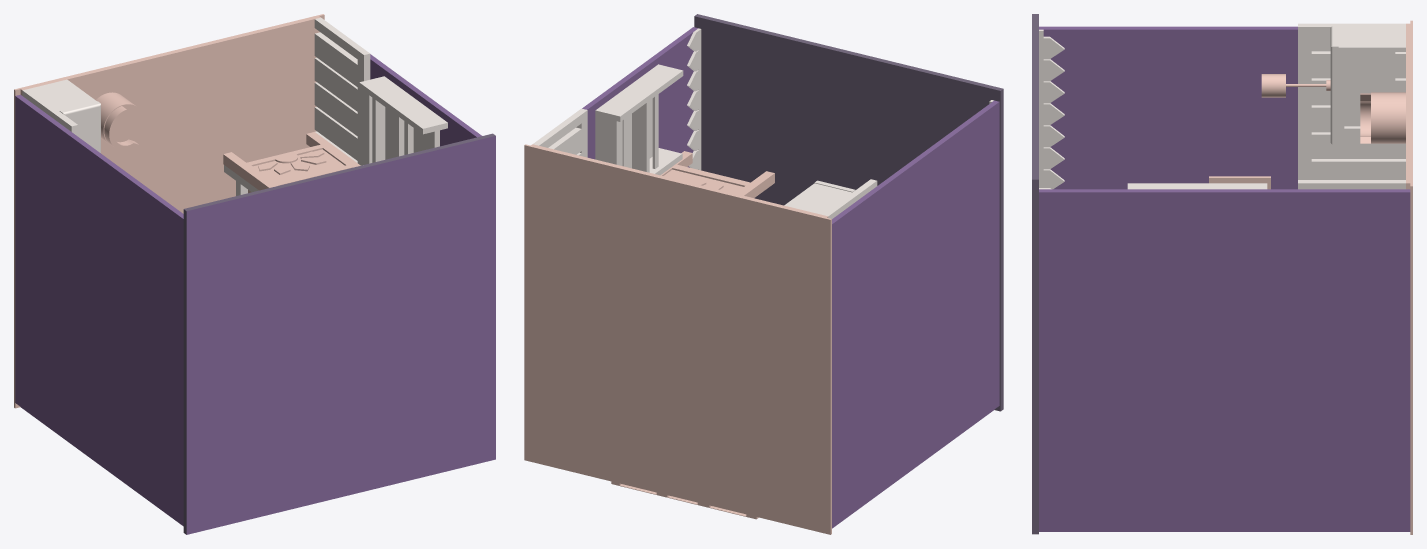
The model's file is Assembly.gltf.
3 views of the same model, side by side, from view 1: azimuth 30°, elevation 25°; view 2: azimuth 150°, elevation 25°; view 3: azimuth 270°, elevation 25° (orthographic). The views are drawn at different scales.
Visible parts, largest first — view 1: Part 1 (×6), Side Wall_Decor, Part 2 (×2), Side Wall; view 2: Part 1 (×5), Side Wall_Decor, Side Wall, Part 2 (×2), Part 3; view 3: Side Wall, Side Wall_Decor, Part 1 (×8), Part 2 (×2), Part 3.
Part boxes in pixels (x1,y1,x2,y2): Part 1 (×6): (14,14,495,534); Side Wall_Decor: (15,94,183,525); Part 2 (×2): (22,17,370,165); Side Wall: (370,54,481,146); Part 1 (×5): (524,14,1003,534); Side Wall_Decor: (832,100,999,527); Side Wall: (582,27,697,167); Part 2 (×2): (533,108,877,218); Part 3: (687,28,701,170); Side Wall: (1039,189,1410,528); Side Wall_Decor: (1039,26,1297,189); Part 1 (×8): (1032,14,1412,534); Part 2 (×2): (1298,23,1405,189); Part 3: (1039,29,1064,189).
Size of the model in its own units: 0.1455 by 0.1475 by 0.141.
